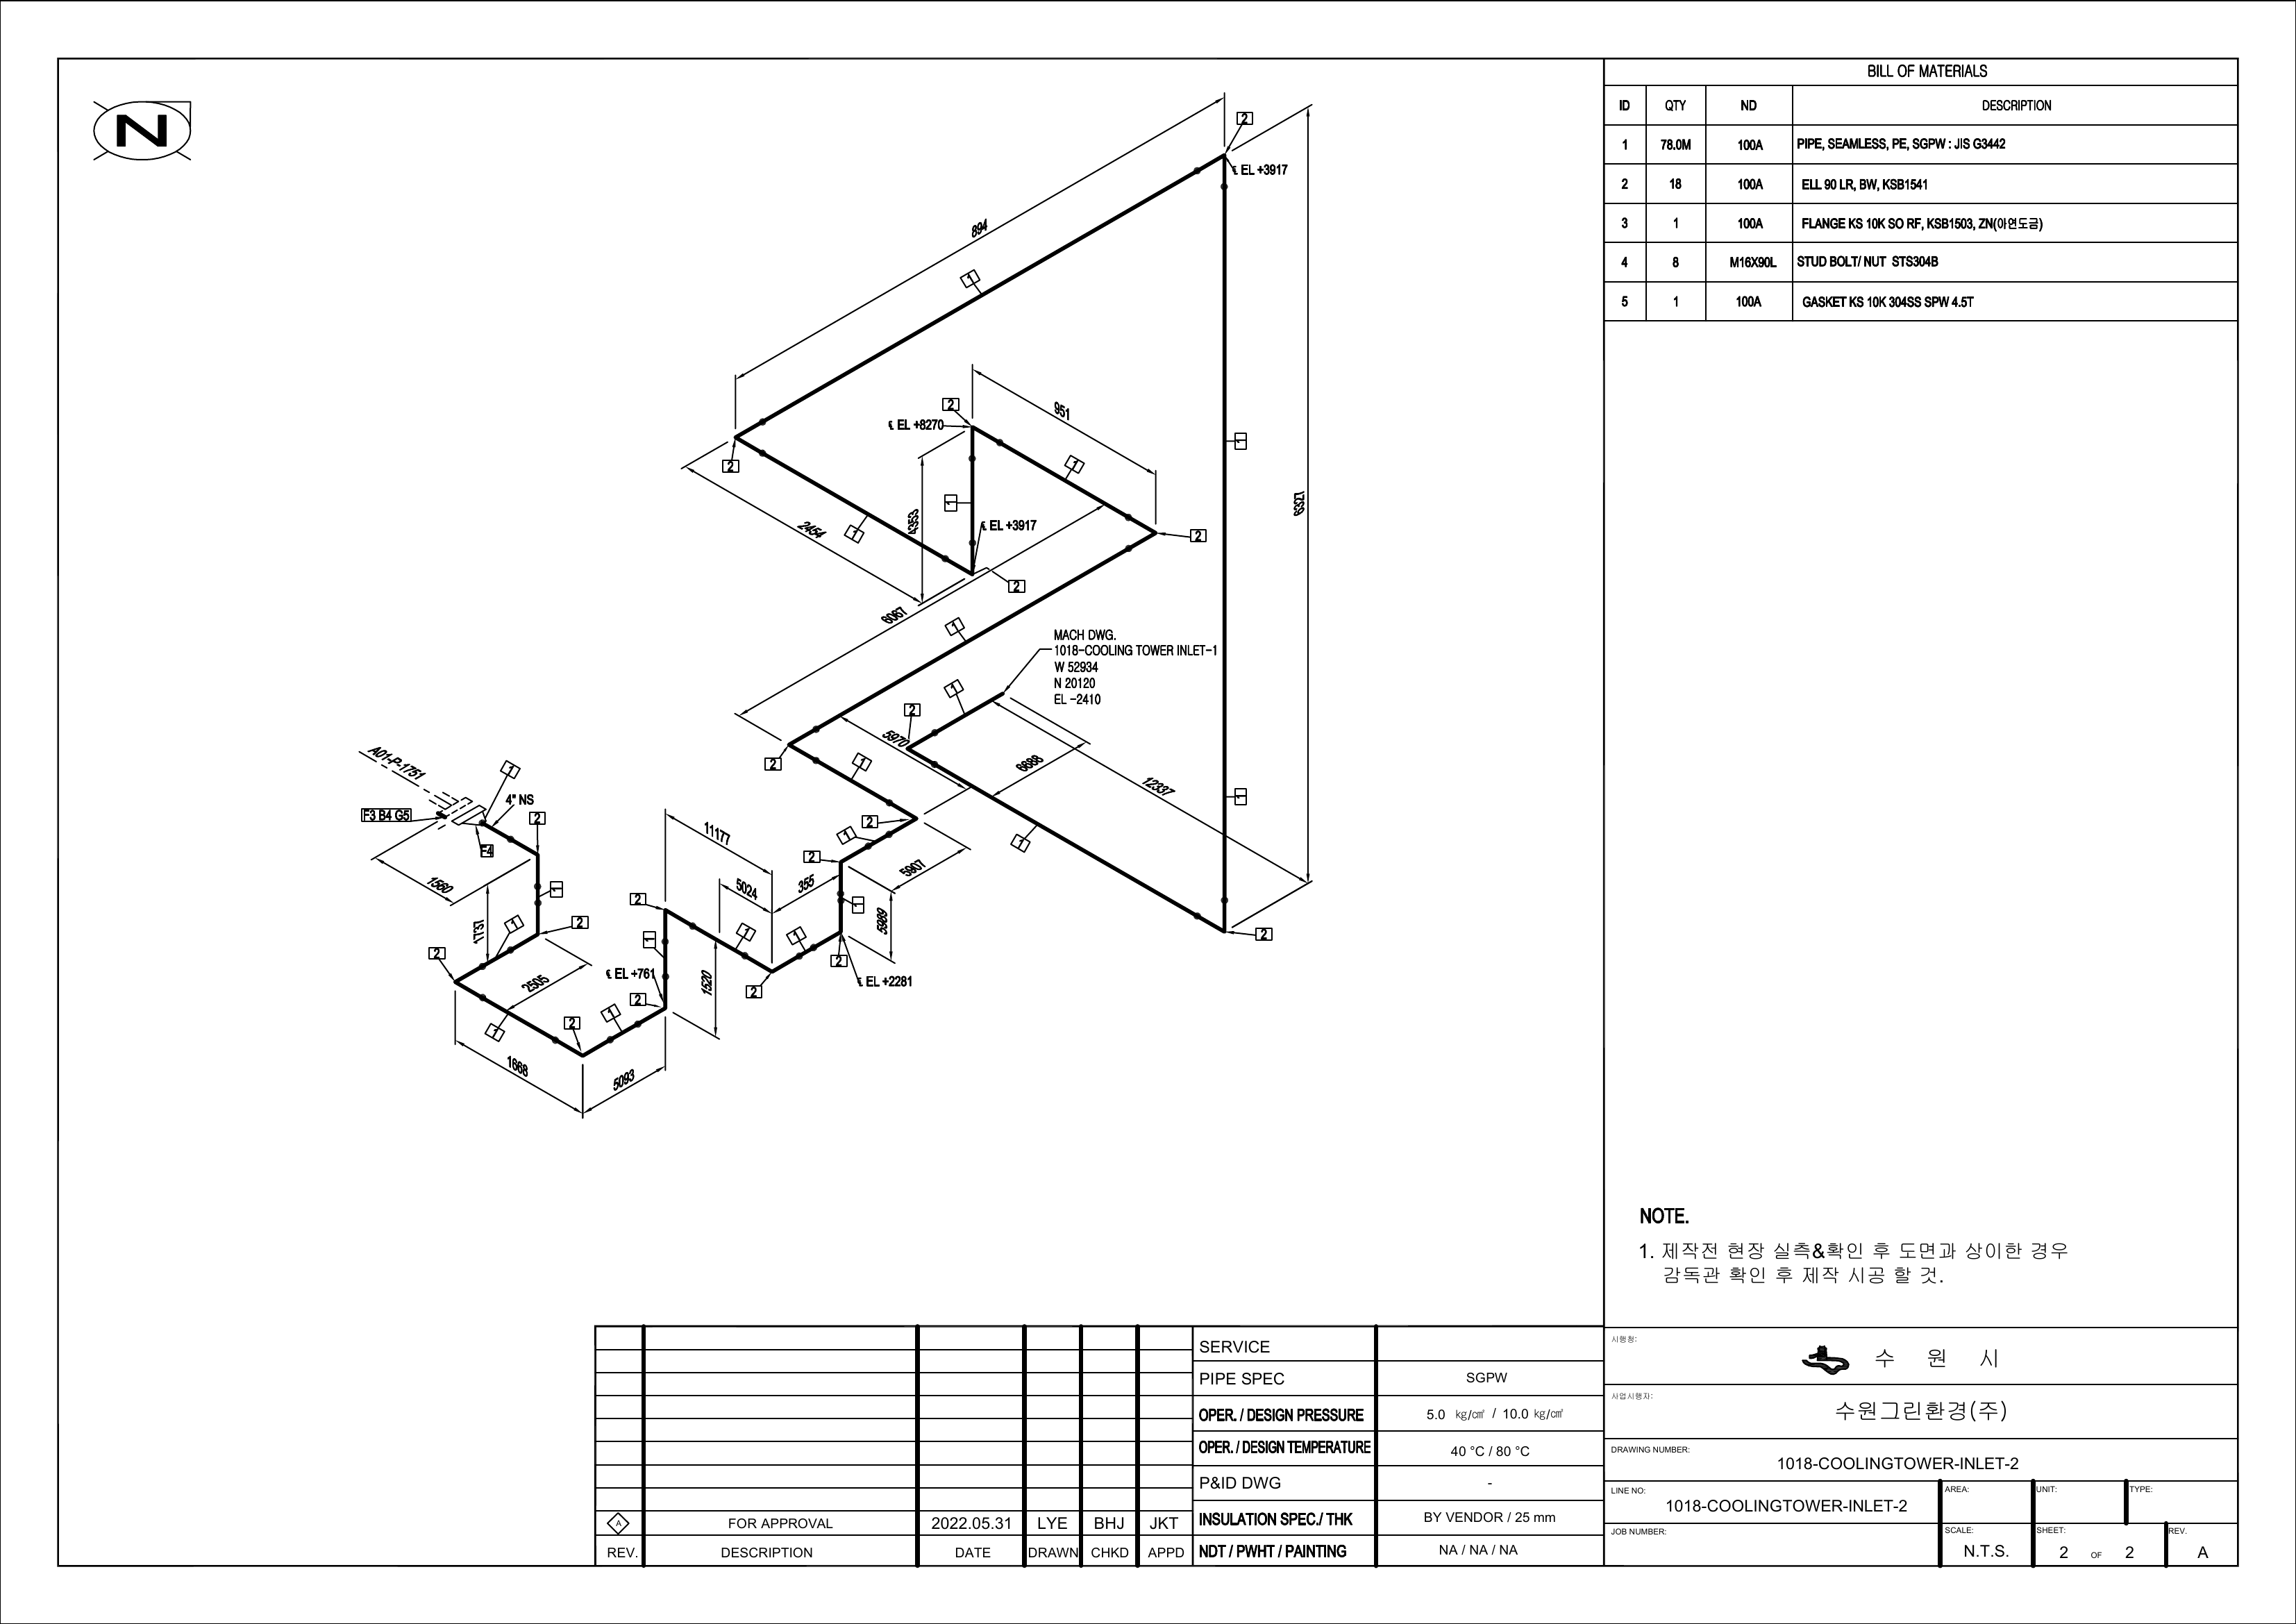table: (1599, 42, 2247, 327)
